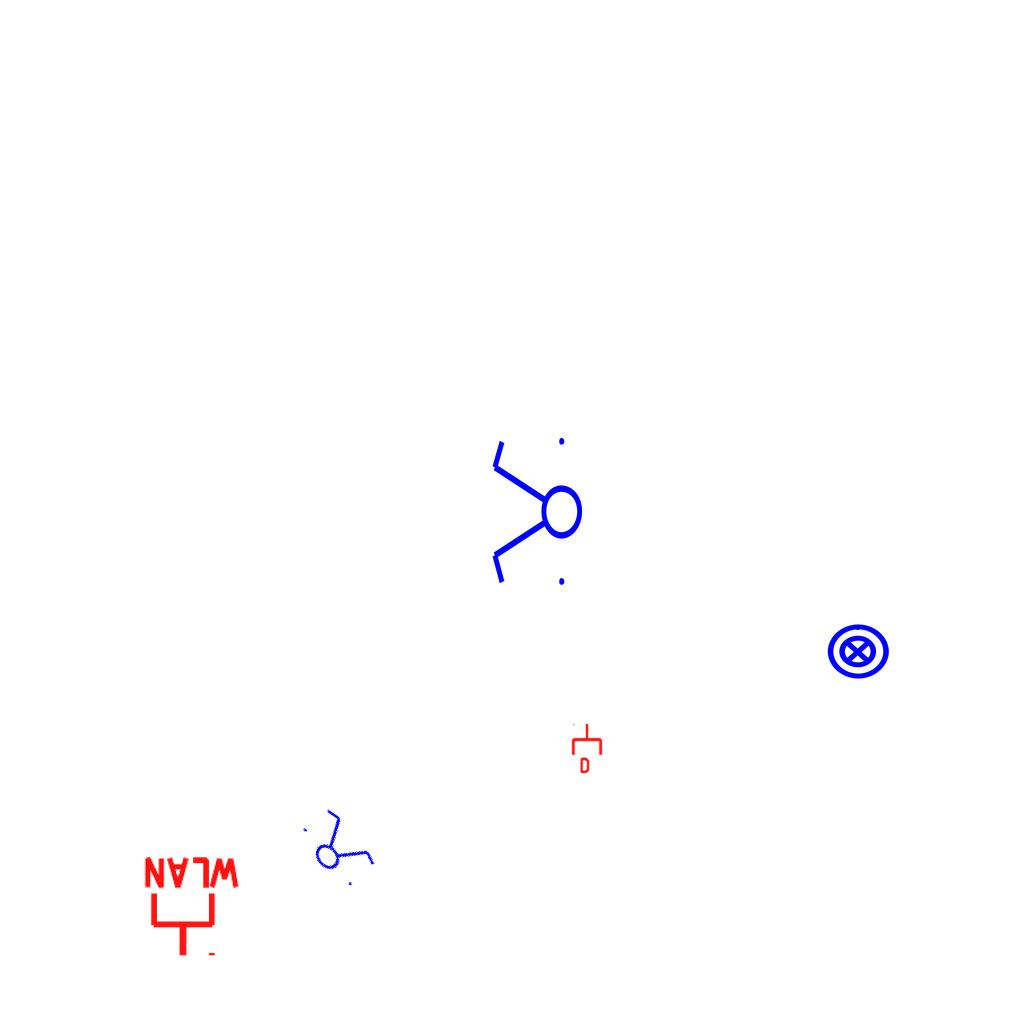Datenanschluss_einfach: (570, 723, 604, 773)
Serienschalter: (488, 429, 584, 597), (291, 800, 383, 896)
Taster_beleuchtet: (825, 619, 891, 685)
WLAN: (140, 855, 244, 960)
